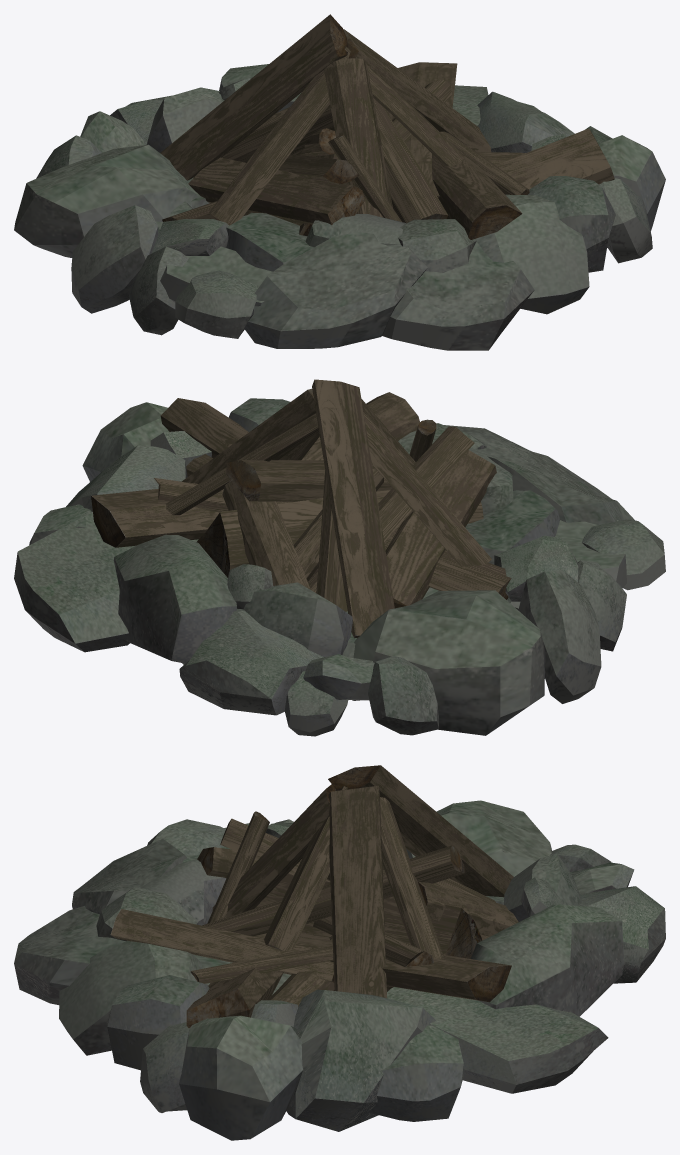
File: campfire.fbx
3 renders of one model, top to bottom at view 1: azimuth 30°, elevation 25°; view 2: azimuth 150°, elevation 25°; view 3: azimuth 270°, elevation 25°, orthographic. The views are drawn at different scales.
Parts seen in each view (by area): view 1: Cube.562, Cube.550, Cube.556, Cylinder.130, Cube.573, Cube.572, Cylinder.129, Cylinder.143, Cylinder.136, Cylinder.139, Cube.555, Cube.566 (+27 smaller); view 2: Cube.550, Cylinder.130, Cube.549, Cube.574, Cube.560, Cube.572, Cylinder.129, Cube.562, Cube.567, Cylinder.143, Cylinder.132, Cube.568 (+30 smaller); view 3: Cube.547, Cube.569, Cube.574, Cube.549, Cylinder.131, Cube.573, Cylinder.130, Cube.553, Cube.556, Cube.566, Cylinder.139, Cube.550 (+25 smaller).
Boxes of the visible parts, x1,y1,x2,y2 form: Cube.562: (244,232,427,348); Cube.550: (14,144,200,257); Cube.556: (382,241,534,350); Cylinder.130: (160,14,347,180); Cube.573: (476,194,589,314); Cube.572: (71,205,158,313); Cylinder.129: (188,157,365,225); Cylinder.143: (209,70,329,225); Cylinder.136: (324,58,392,217); Cylinder.139: (432,153,522,239); Cube.555: (175,270,257,338); Cube.566: (528,176,615,272); Cube.550: (353,590,545,735); Cylinder.130: (312,379,394,638); Cube.549: (113,534,236,663); Cube.574: (14,512,198,652); Cube.560: (179,608,323,715); Cube.572: (518,569,601,703); Cylinder.129: (385,450,496,608); Cube.562: (483,440,634,524); Cube.567: (243,582,352,657); Cylinder.143: (363,412,491,566); Cylinder.132: (91,489,219,547); Cube.568: (368,656,438,735); Cube.547: (286,989,435,1131); Cube.569: (179,1015,303,1140); Cube.574: (387,987,608,1093); Cube.549: (470,904,624,1016); Cylinder.131: (328,785,386,998); Cube.573: (59,940,201,1055); Cylinder.130: (328,765,513,897); Cube.553: (369,1025,464,1121); Cube.556: (14,906,125,1004); Cube.566: (107,975,209,1070); Cylinder.139: (110,909,334,982); Cube.550: (406,800,551,876).
Size of the model in its own units: 192 by 83.6 by 192.
